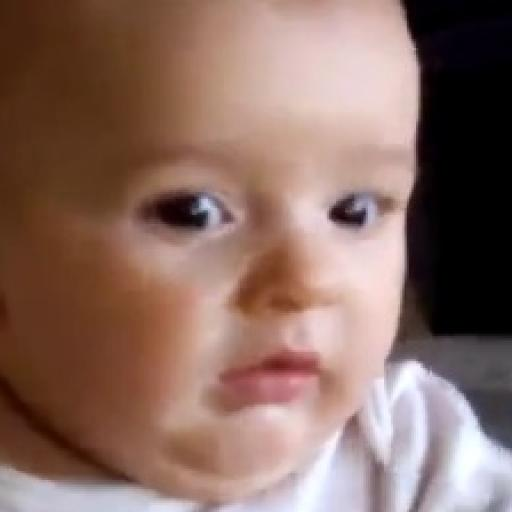Autism: (38, 9, 412, 512)
